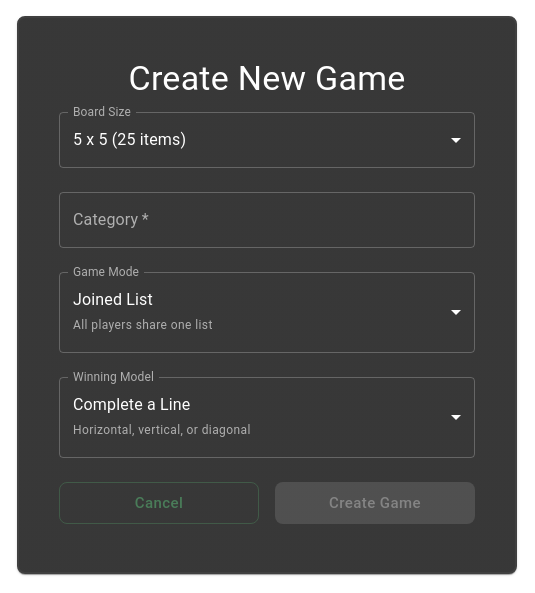
Scenario: GameCreationForm › Form Interactions › allows changing game mode
Press the mouse on the dropdown named "Game Mode" at (143,311), box top-left (73, 290), bottom-right (213, 332)
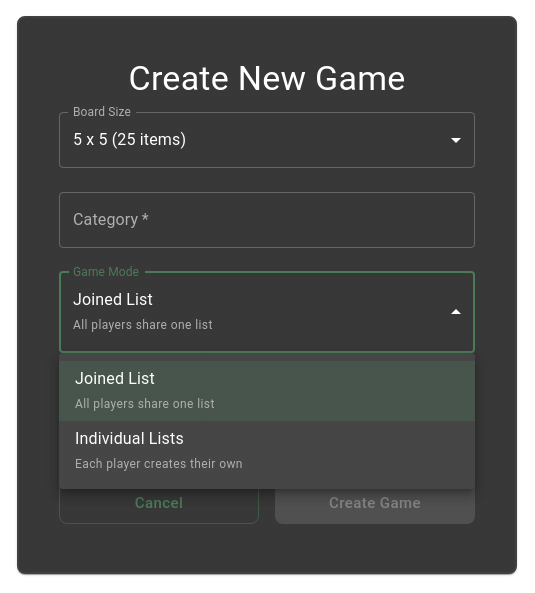
Click the text "Individual Lists" at (129,438), box top-left (75, 429), bottom-right (184, 448)
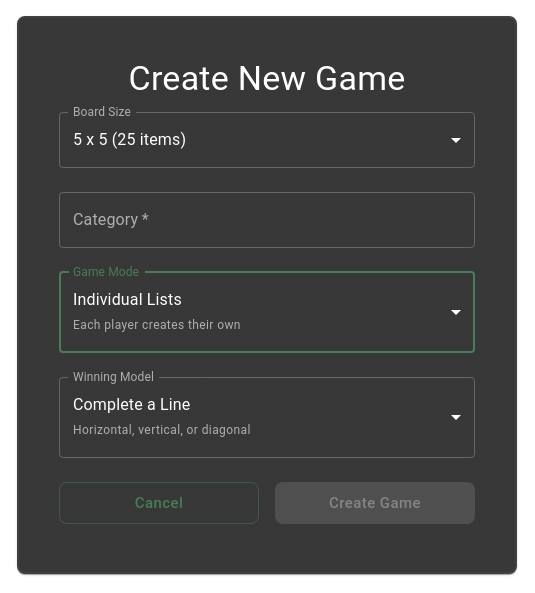
Check: the text "Individual Lists" is shown 2 times
